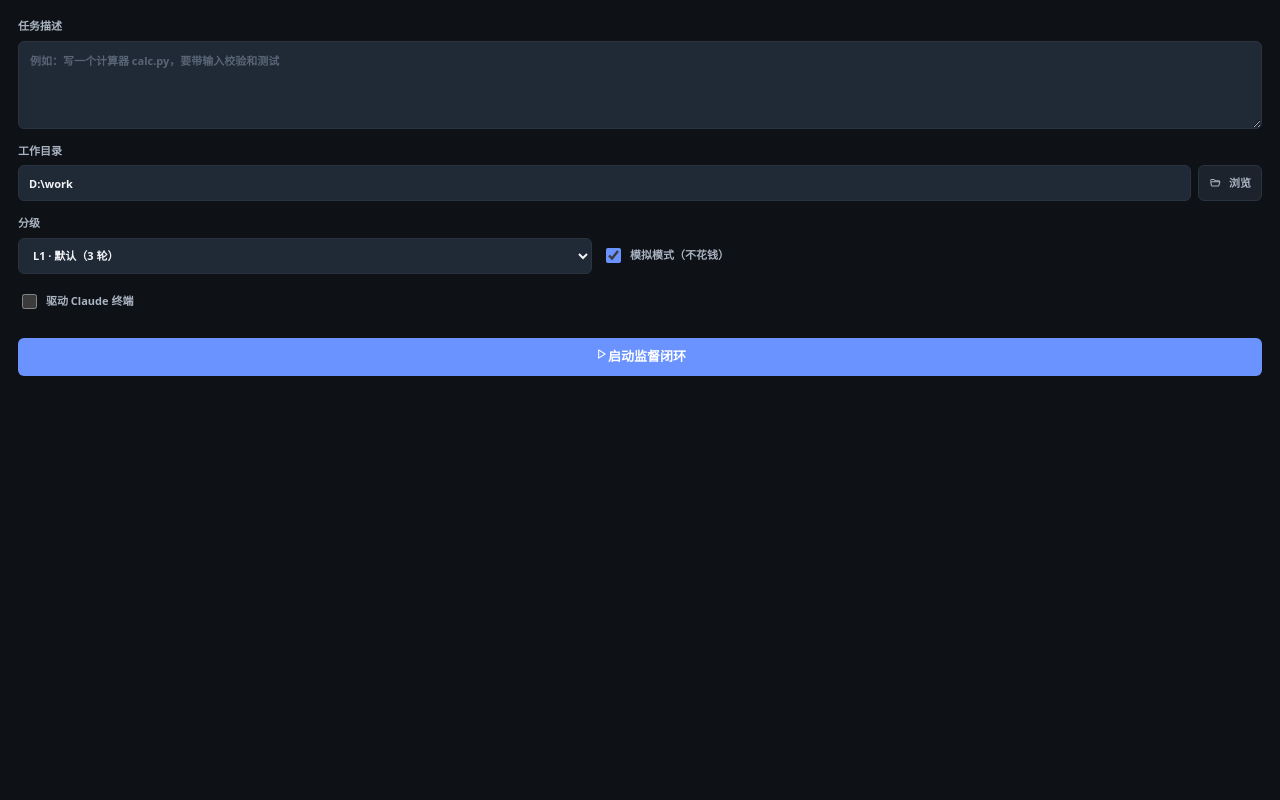
Test: SupervisePanel › 收到 supervise-log 事件 → 渲染日志行
Type "t" into the text box with placeholder "例如：写一个计算器 calc.py，要带输入校验和测试" at (640, 84), box [18,40,1262,128]
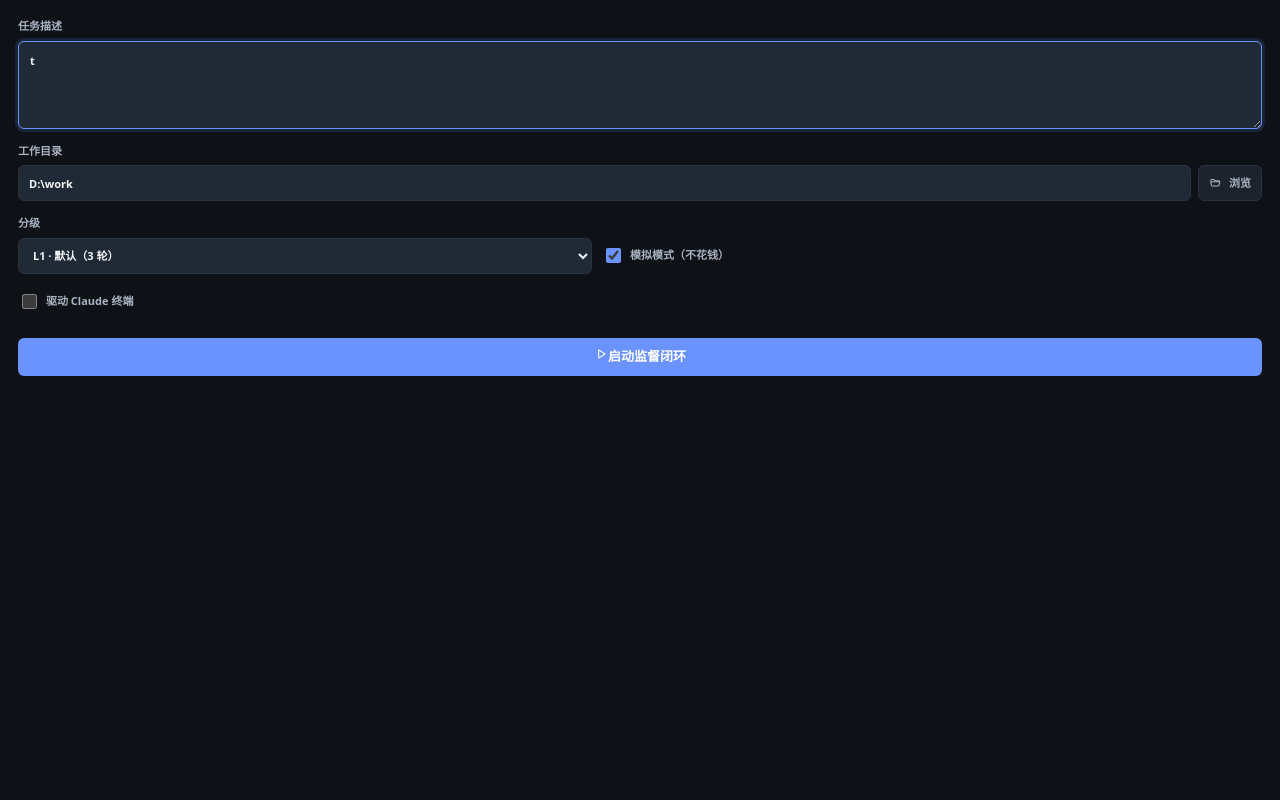
Click the button "启动监督闭环" at (640, 356), box [18,338,1262,376]
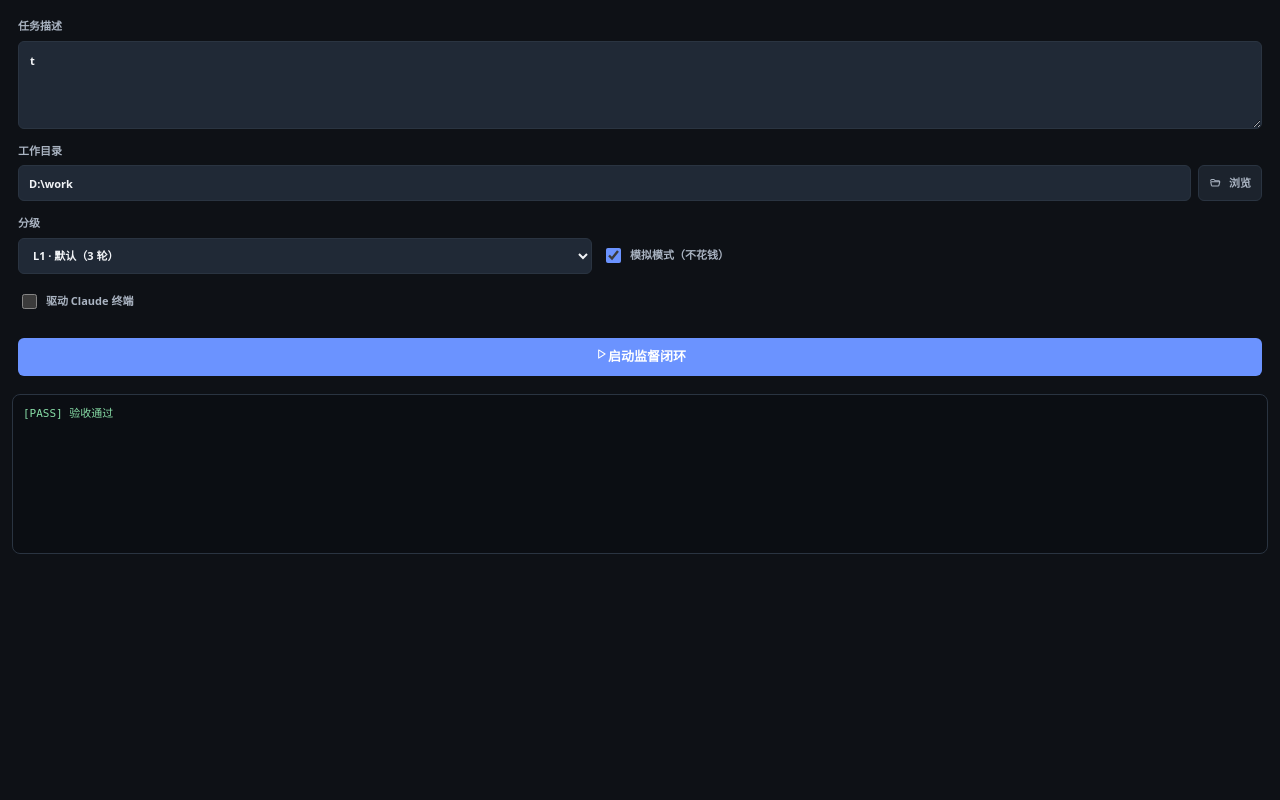
Check: the text "[PASS] 验收通过" is shown, box [23,406,113,420]
